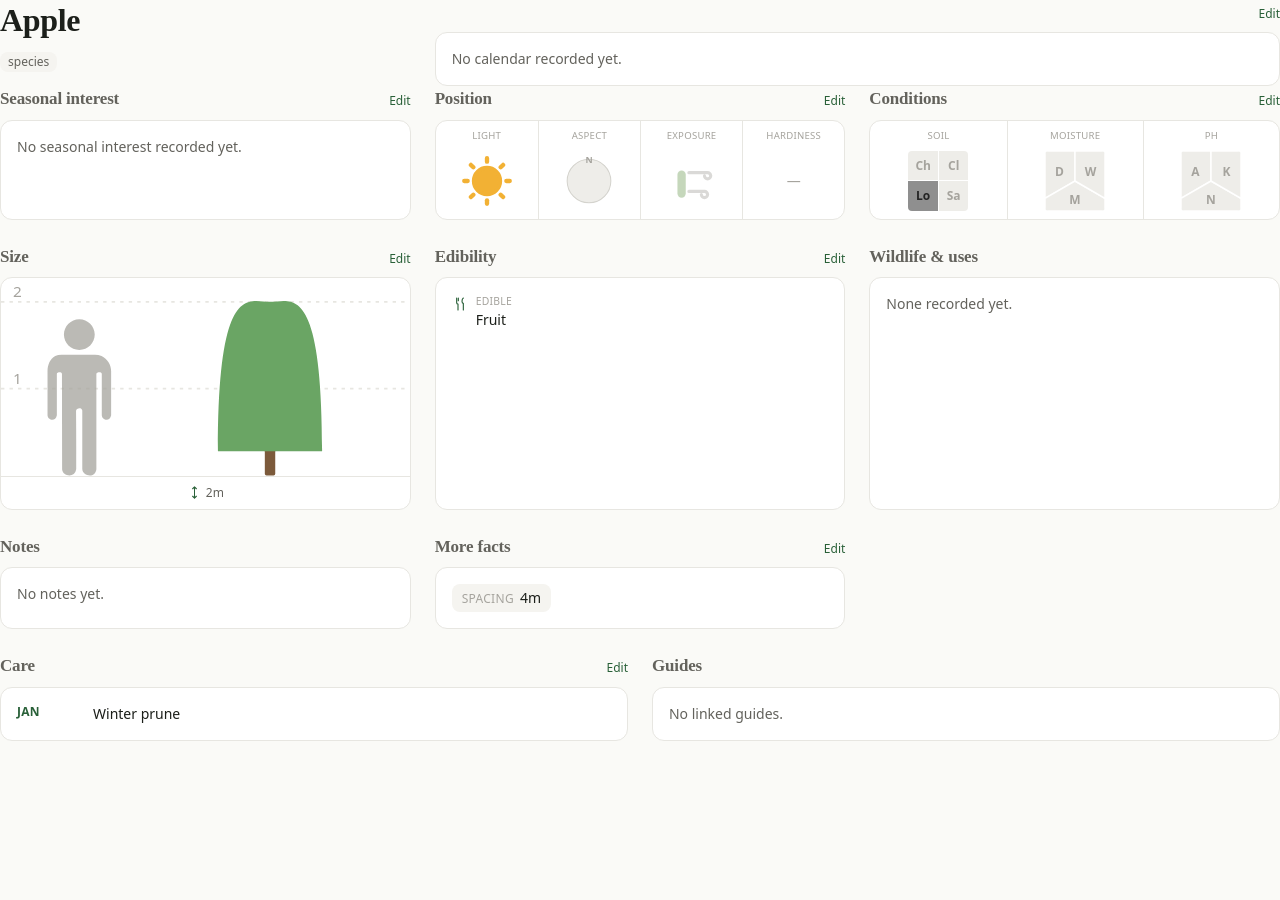
Test case: CheatsheetContent edit orchestration › the Size card Edit button opens the Edit size editor
This screenshot has width=1280, height=900.
Click the button "Edit" in the row of "Size".
click(400, 259)  # box [389,251,411,267]
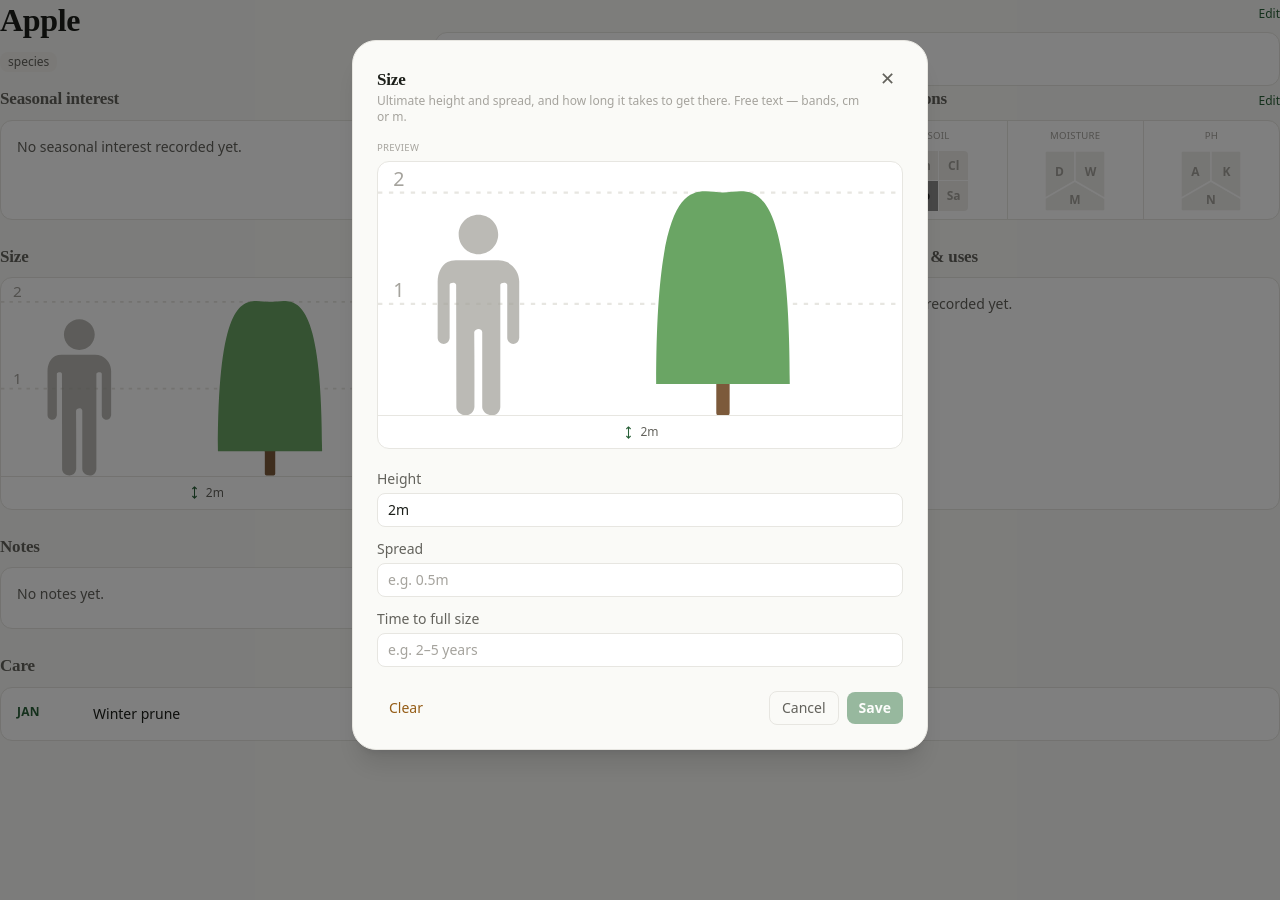
Now the dialog named "Edit size" is shown, box [352,40,928,750]
